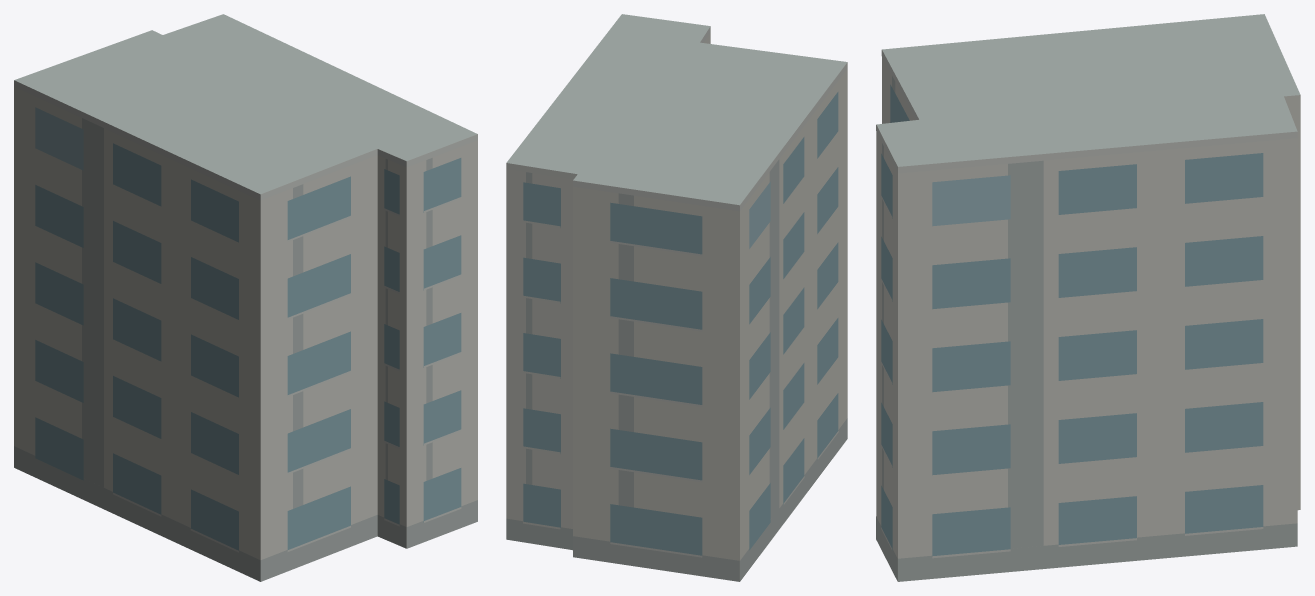
Rendered from survey-upis-32910143.glb.
3 views of the same model, side by side, from view 1: azimuth 30°, elevation 25°; view 2: azimuth 150°, elevation 25°; view 3: azimuth 270°, elevation 25° (orthographic). The views are drawn at different scales.
Visible parts, largest first — view 1: survey-upis-32910143.tmp; view 2: survey-upis-32910143.tmp; view 3: survey-upis-32910143.tmp.
Part boxes in pixels (x1=…): survey-upis-32910143.tmp: x1=14, y1=14, x2=477, y2=581; survey-upis-32910143.tmp: x1=506, y1=14, x2=847, y2=581; survey-upis-32910143.tmp: x1=876, y1=14, x2=1300, y2=581.
Bounding box in the file's own units: 11.94 × 15.1 × 14.
